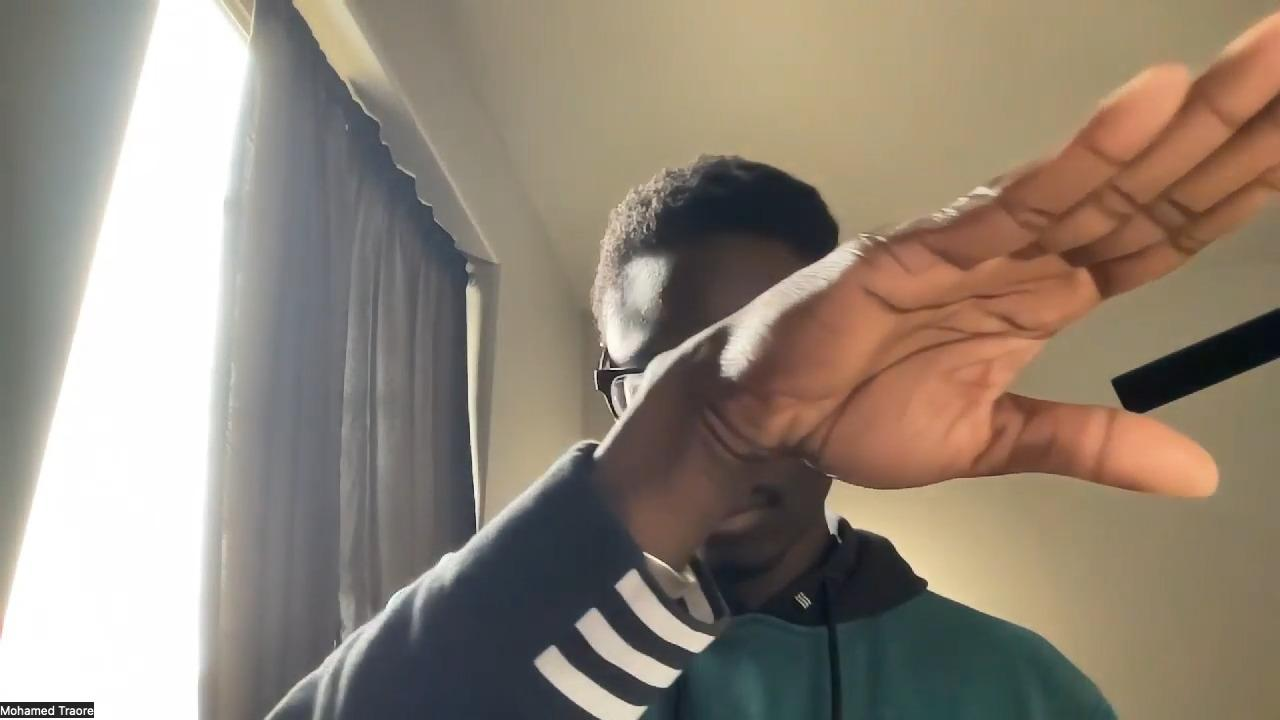Paper: (665, 5, 1280, 501)
